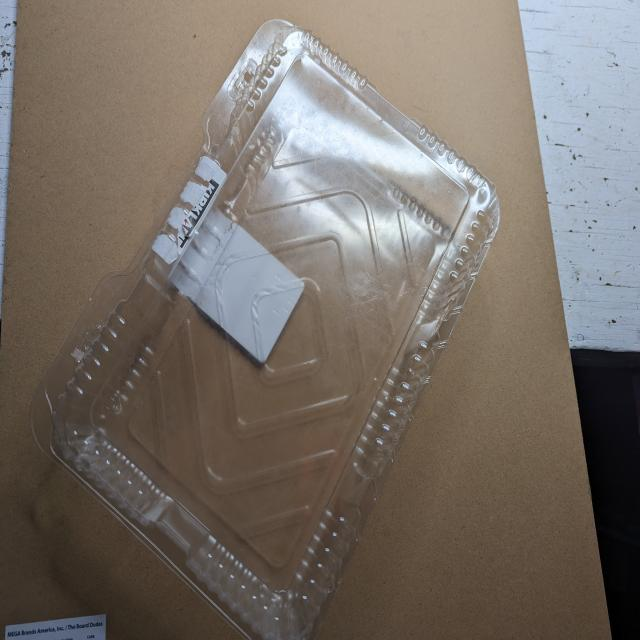Clamshell: (5, 2, 519, 640)
Label: (137, 151, 311, 372)
